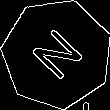N_SE: (24, 22, 89, 86)
